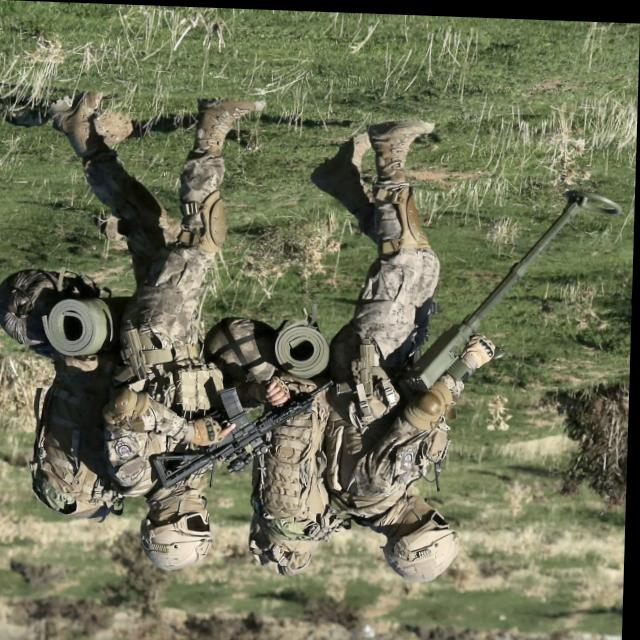poh_personel: (44, 85, 297, 573), (254, 108, 506, 581)
